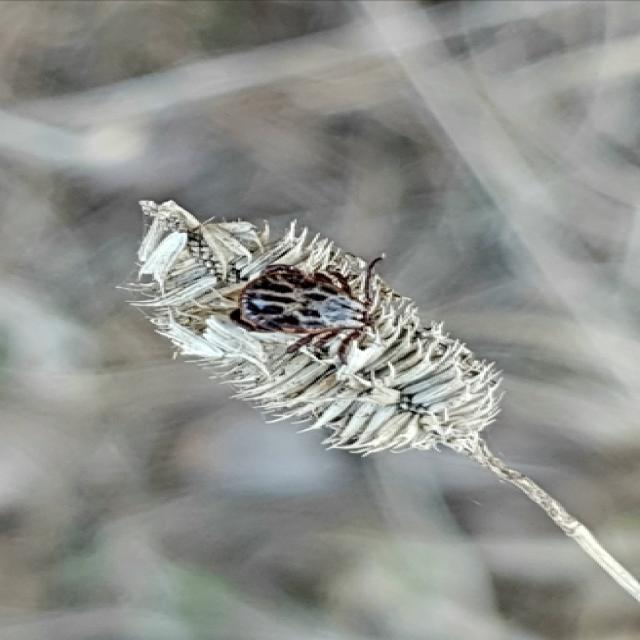Dermacentor Reticulatus-M: (232, 262, 369, 360)
